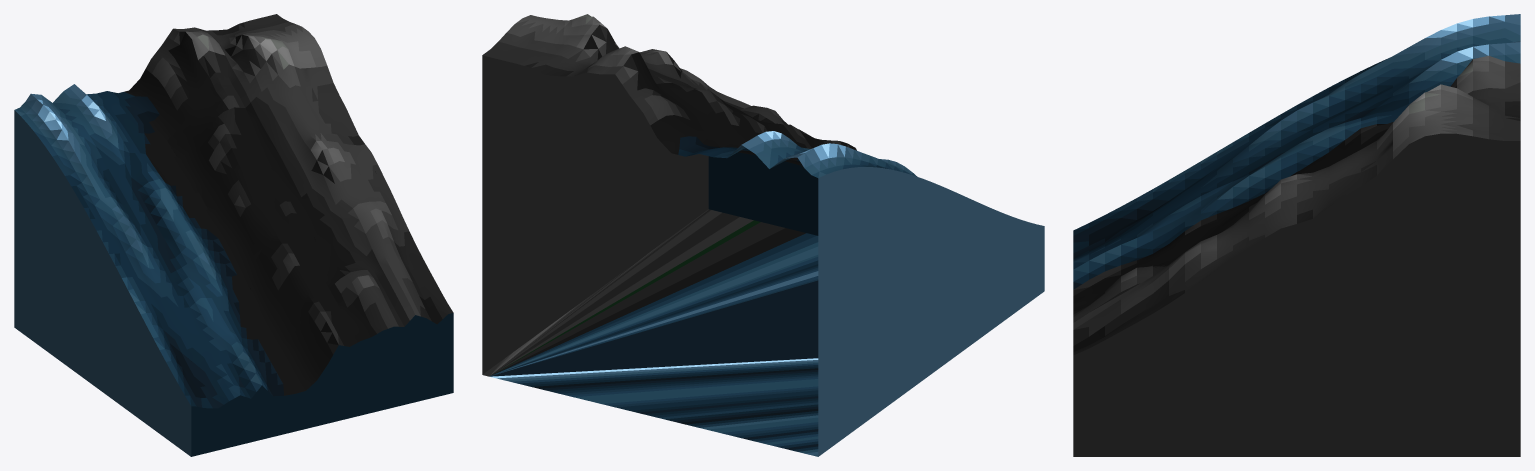
File: torm_fall_tr.glb
The picture shows the model from 3 angles, left to right: view 1: azimuth 30°, elevation 25°; view 2: azimuth 150°, elevation 25°; view 3: azimuth 270°, elevation 25°; orthographic projection. The views are drawn at different scales.
Visible parts, largest first — view 1: torm_fall_tr_fall_body; view 2: torm_fall_tr_fall_body; view 3: torm_fall_tr_fall_body.
Boxes of the visible parts, left/top/right/bottom form: torm_fall_tr_fall_body: left=14, top=14, right=453, bottom=456; torm_fall_tr_fall_body: left=482, top=14, right=1044, bottom=456; torm_fall_tr_fall_body: left=1073, top=14, right=1520, bottom=456.
Bounding box in the file's own units: 23.98 × 23.25 × 27.98.
